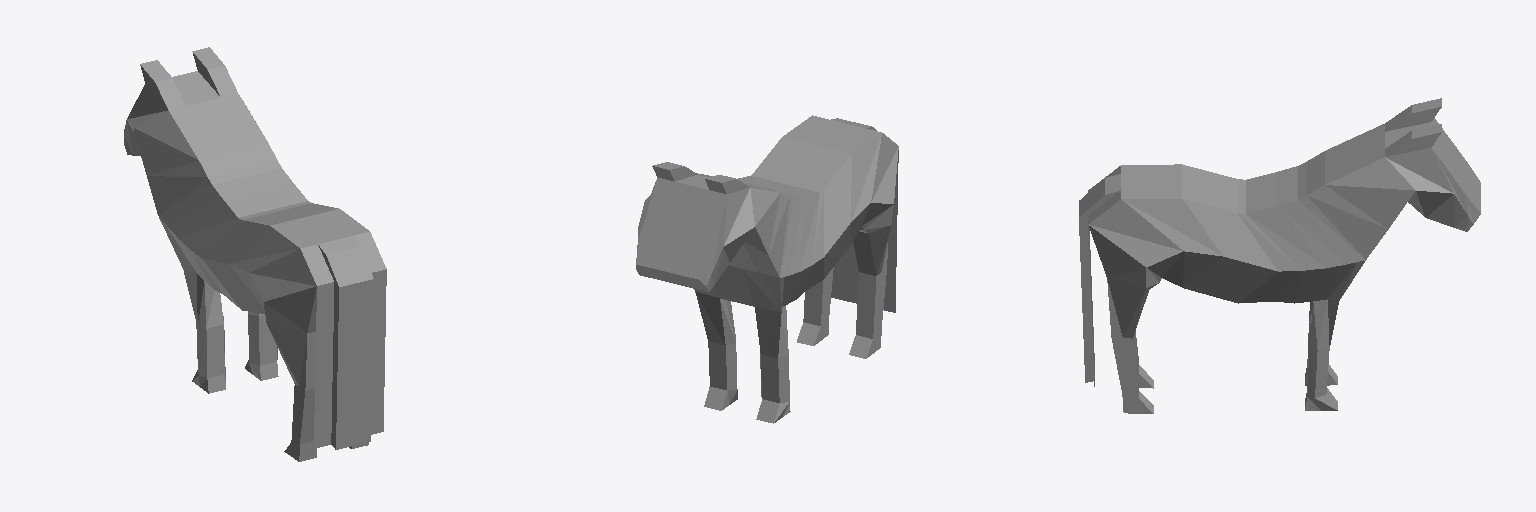
Rendered from horse.obj.
The picture shows the model from 3 angles: view 1: azimuth 30°, elevation 25°; view 2: azimuth 150°, elevation 25°; view 3: azimuth 270°, elevation 25°; orthographic projection.
Visible parts, largest first — view 1: Plane; view 2: Plane; view 3: Plane.
Boxes of the visible parts, x1=… form: Plane: x1=124, y1=47, x2=386, y2=461; Plane: x1=636, y1=115, x2=898, y2=423; Plane: x1=1079, y1=98, x2=1480, y2=413.
Size of the model in its own units: 3.39 by 7.72 by 9.98.